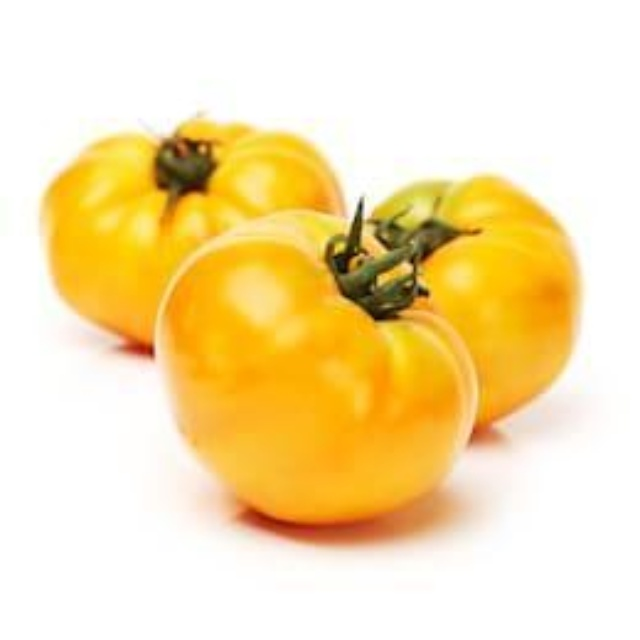tomato: (158, 224, 473, 528), (48, 122, 346, 339), (337, 180, 599, 425)
